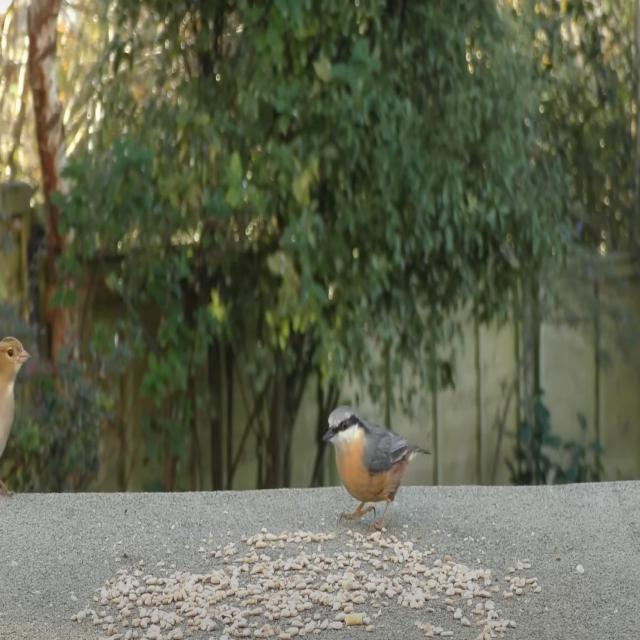beak: (16, 338, 32, 366), (322, 424, 334, 451)
bird: (324, 400, 433, 526), (0, 332, 30, 498)
